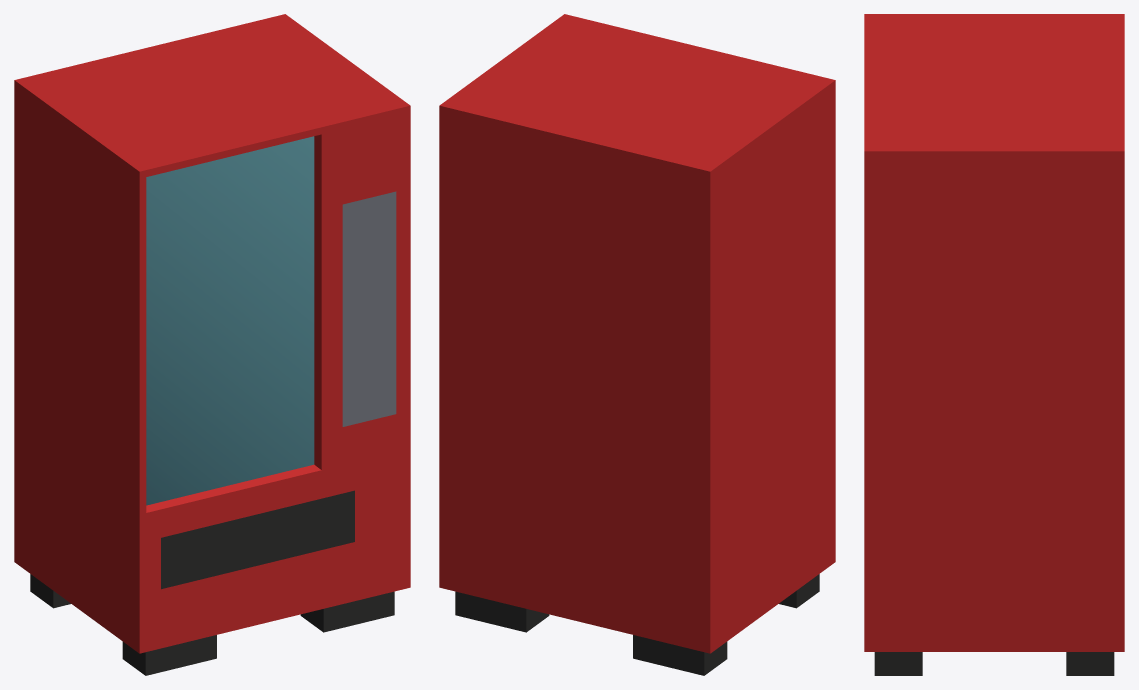
The model's file is vendingMachineRed.fbx.
3 renders of one model, left to right at view 1: azimuth 30°, elevation 25°; view 2: azimuth 150°, elevation 25°; view 3: azimuth 270°, elevation 25°, orthographic. The views are drawn at different scales.
Parts seen in each view (by area): view 1: vendingMachineRed; view 2: vendingMachineRed; view 3: vendingMachineRed.
Boxes of the visible parts, bbox=[...] form: vendingMachineRed: bbox=[14, 14, 410, 675]; vendingMachineRed: bbox=[439, 14, 835, 675]; vendingMachineRed: bbox=[864, 14, 1124, 675].
Bounding box in the file's own units: 100 × 180 × 80.
1 material, 1 textured.
